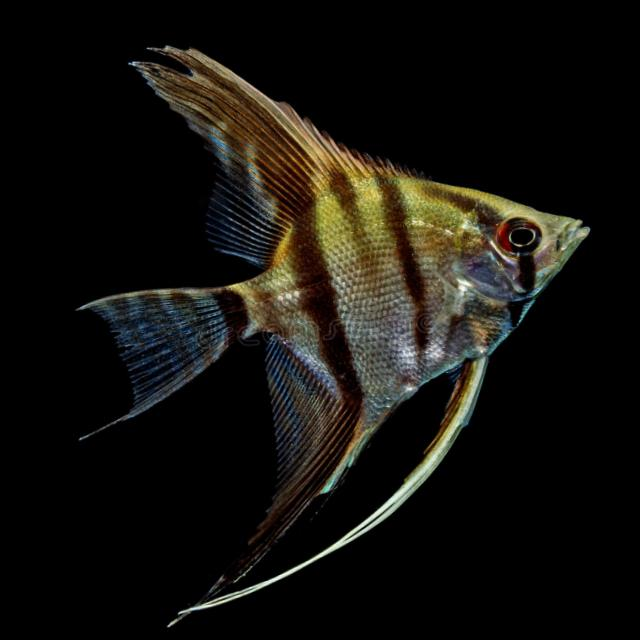AngelFish: (64, 12, 619, 632)
